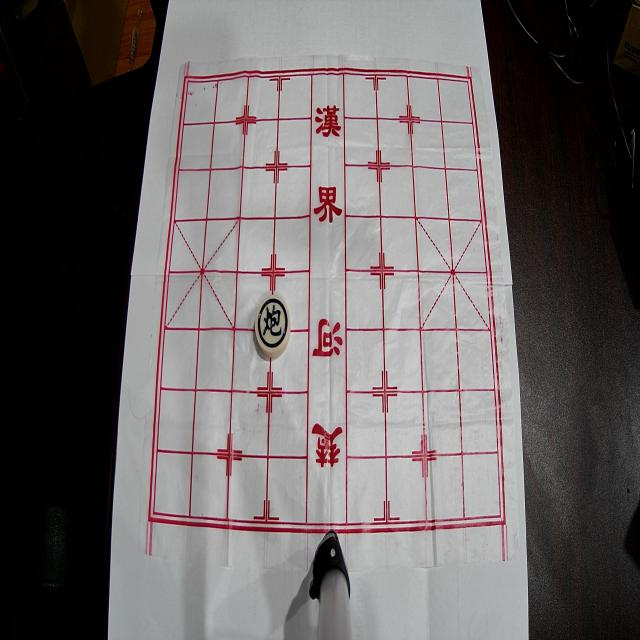black-cannon: (254, 294, 290, 358)
